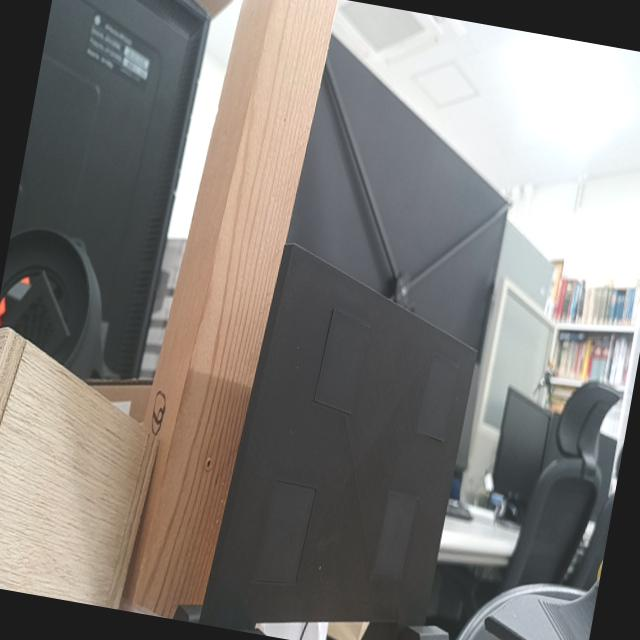Wall: (211, 242, 476, 625)
